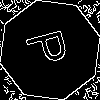P: (25, 25, 78, 69)
